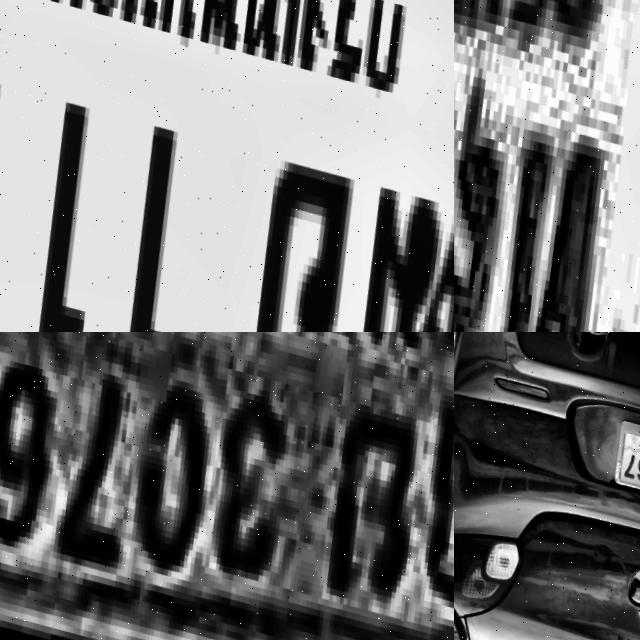license-plate: (0, 0, 454, 332), (0, 332, 454, 640), (454, 0, 640, 332), (602, 408, 640, 511)
